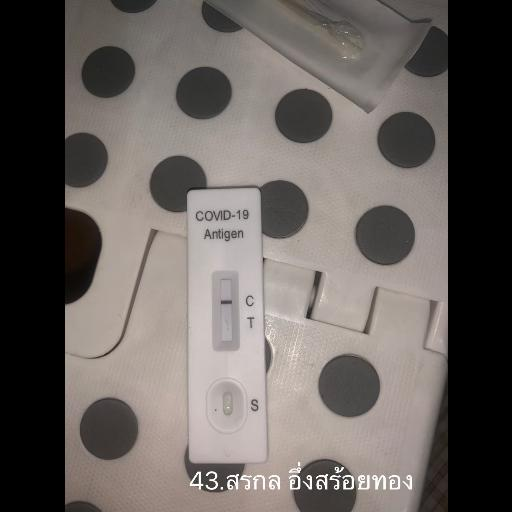Neg: (186, 185, 266, 462)
